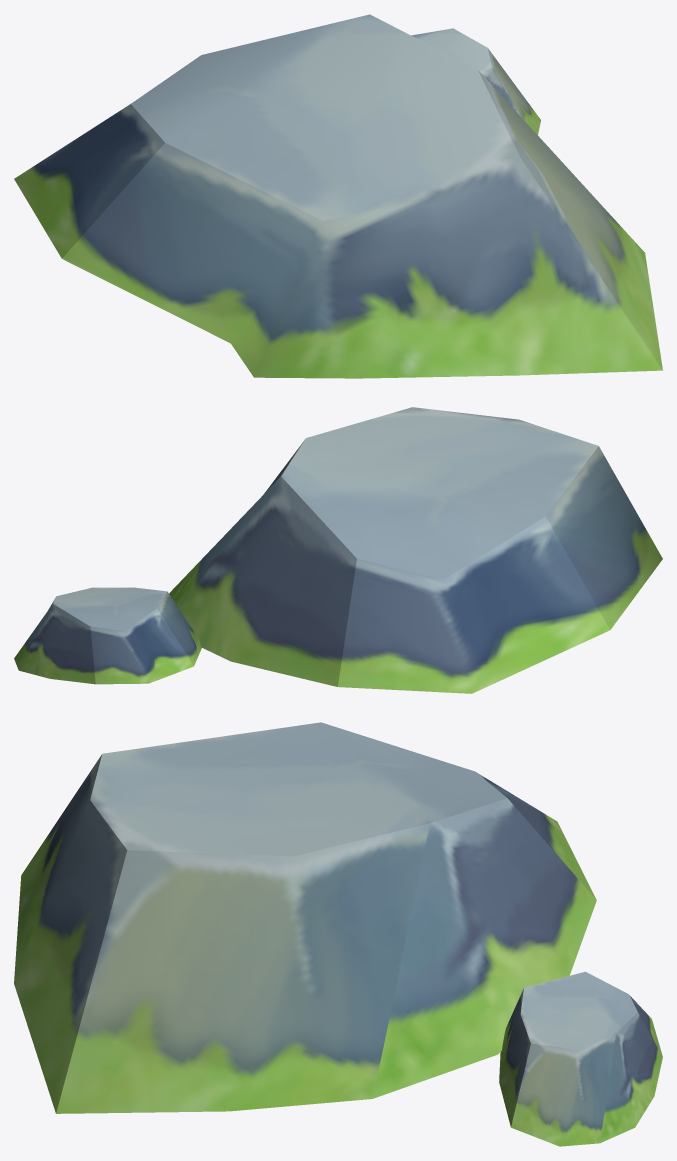
Rendered from shitou_2.FBX.
3 views of the same model, one above another, from view 1: azimuth 30°, elevation 25°; view 2: azimuth 150°, elevation 25°; view 3: azimuth 270°, elevation 25° (orthographic). The views are drawn at different scales.
Parts seen in each view (by area): view 1: shitou_2; view 2: shitou_2; view 3: shitou_2.
Part boxes in pixels (box(x1,y1,x2,y2)): shitou_2: box(14, 14, 662, 378); shitou_2: box(14, 407, 662, 693); shitou_2: box(14, 722, 662, 1146).
Size of the model in its own units: 215 by 85.34 by 209.
